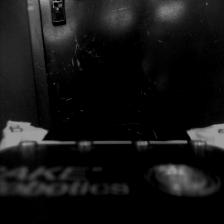Lock: (53, 1, 62, 8)
